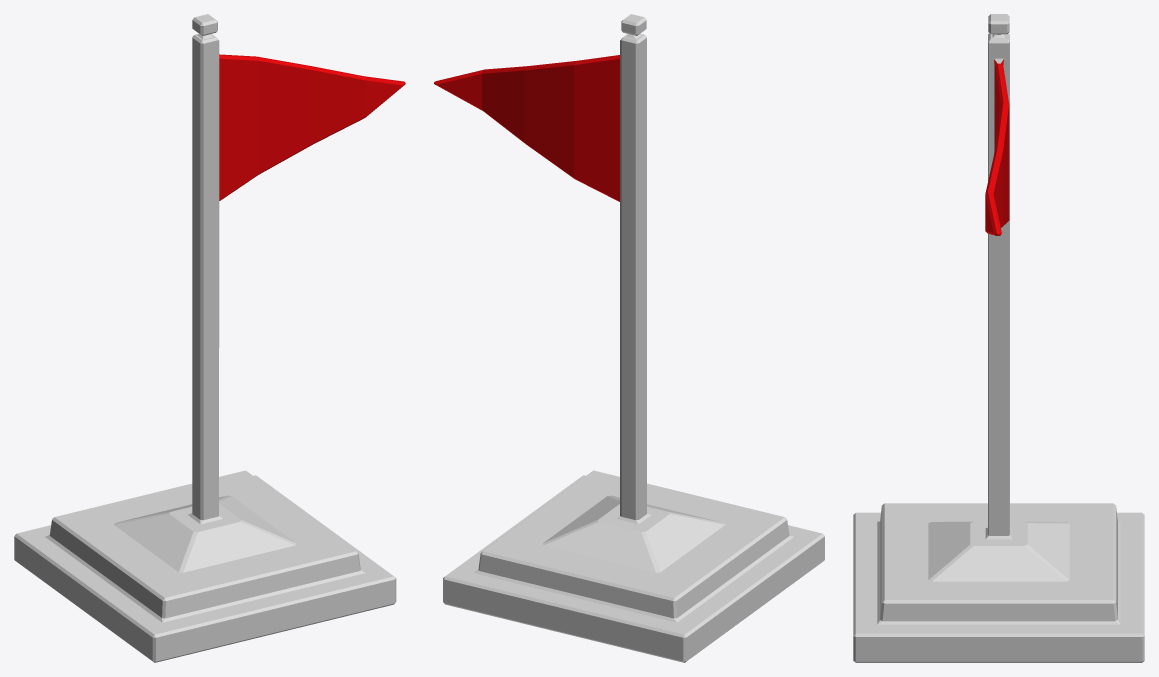
The model's file is F_Checkpoint.fbx.
3 renders of one model, left to right at view 1: azimuth 30°, elevation 25°; view 2: azimuth 150°, elevation 25°; view 3: azimuth 270°, elevation 25°, orthographic. The views are drawn at different scales.
Parts seen in each view (by area): view 1: F_Checkpoint; view 2: F_Checkpoint; view 3: F_Checkpoint.
Part boxes in pixels (left/top/right/bottom): F_Checkpoint: left=14, top=14, right=405, bottom=662; F_Checkpoint: left=434, top=14, right=824, bottom=662; F_Checkpoint: left=853, top=14, right=1144, bottom=662.
Size of the model in its own units: 662 by 1112 by 502.
